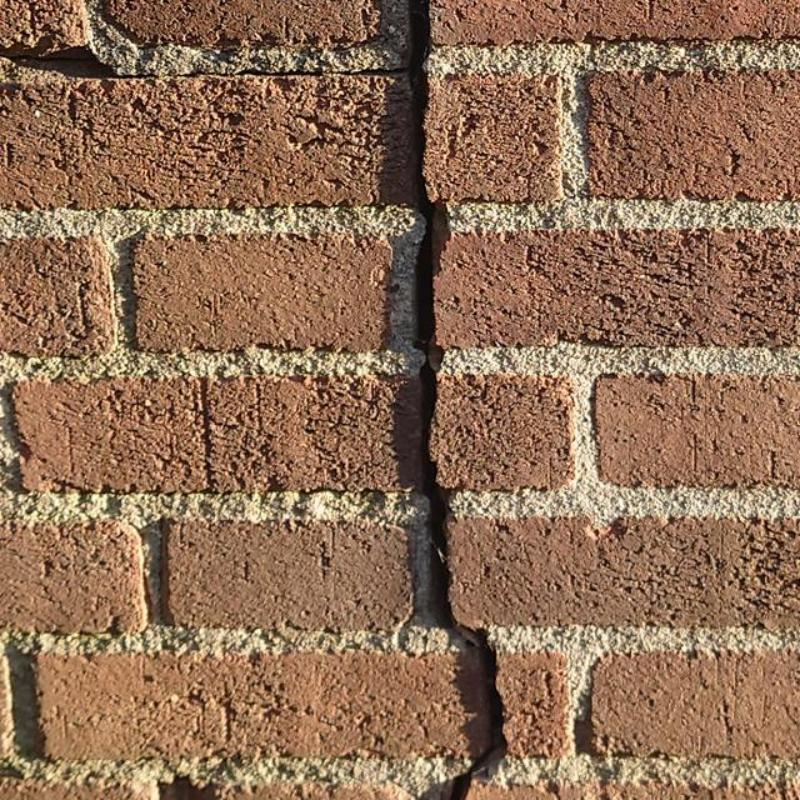pothole: (409, 0, 505, 799), (0, 52, 409, 80)
